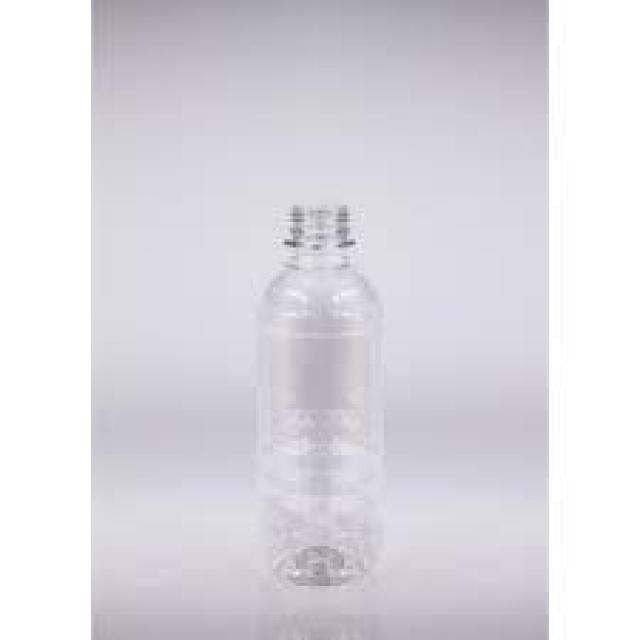bottle: (245, 200, 392, 602)
